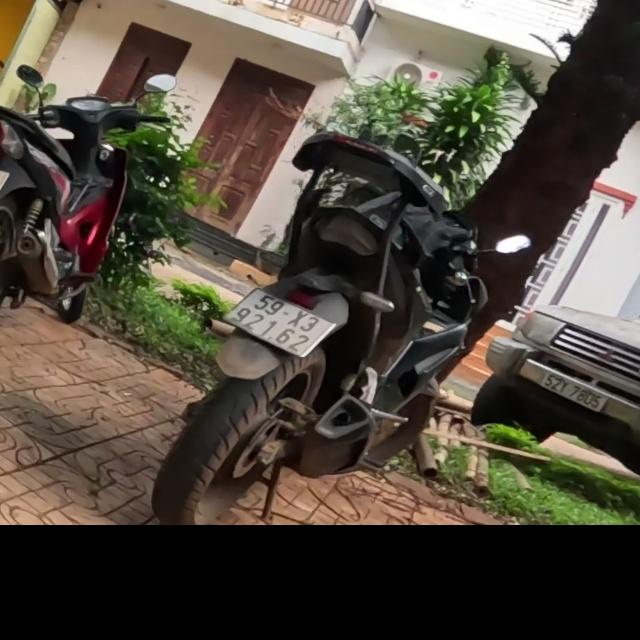license-plate: (541, 370, 611, 413)
